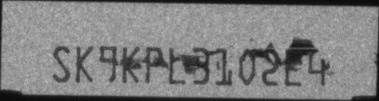1: (214, 47, 234, 86)
2: (259, 47, 279, 87)
3: (191, 45, 210, 85)
4: (307, 50, 326, 86)
9: (99, 45, 117, 83)
E: (284, 48, 303, 86)
K: (75, 44, 93, 83), (122, 45, 139, 83)
L: (167, 46, 184, 85)
O: (239, 47, 257, 86)
P: (144, 46, 162, 83)
S: (52, 45, 70, 83)
